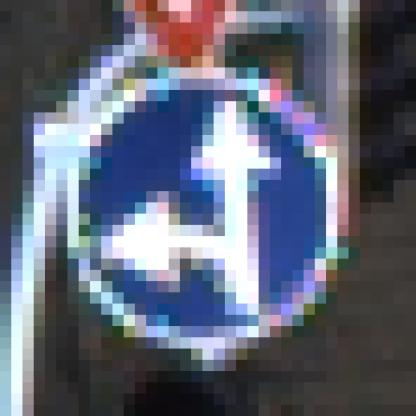Straight or Left: (57, 68, 361, 361)
